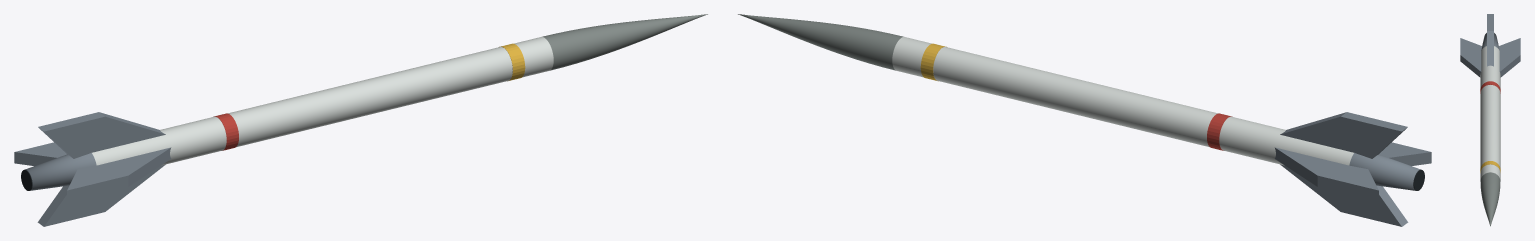
Rendered from cw90_aim9m.glb.
3 renders of one model, left to right at view 1: azimuth 30°, elevation 25°; view 2: azimuth 150°, elevation 25°; view 3: azimuth 270°, elevation 25°, orthographic. The views are drawn at different scales.
Visible parts, largest first — view 1: cw90_aim9m; view 2: cw90_aim9m; view 3: cw90_aim9m.
Boxes of the visible parts, x1,y1,x2,y2 form: cw90_aim9m: (14, 14, 707, 226); cw90_aim9m: (738, 14, 1431, 226); cw90_aim9m: (1460, 14, 1520, 226).
Size of the model in its own units: 10 by 1.34 by 1.34.
